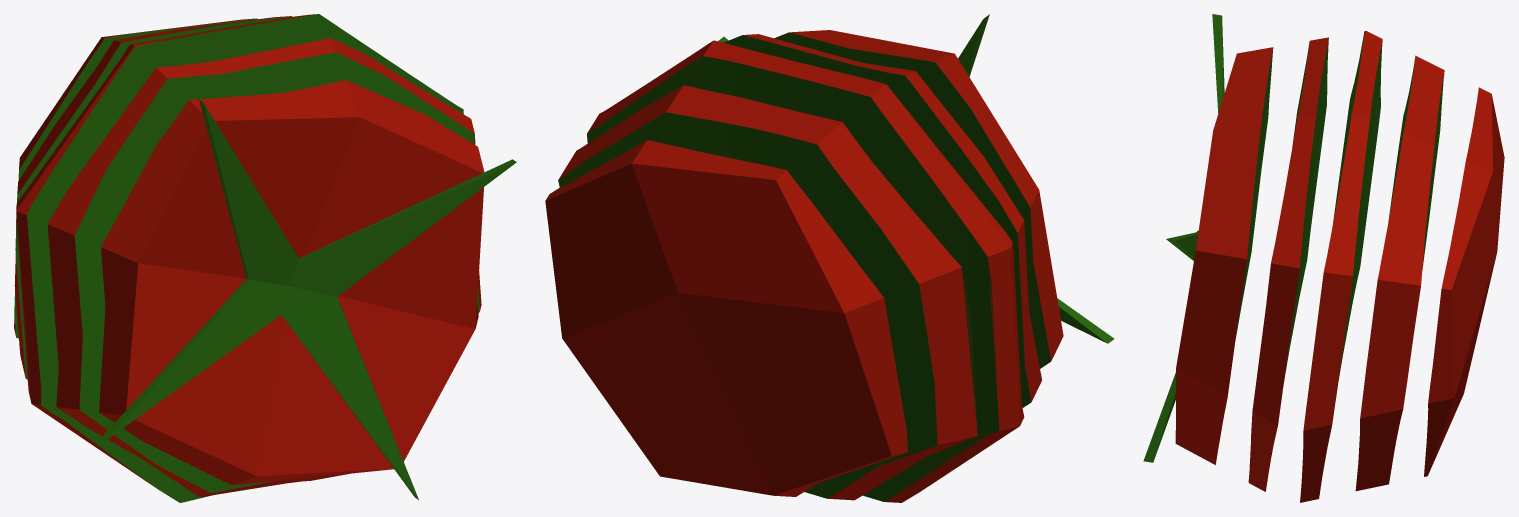
The model's file is tomatepicado.fbx.
The picture shows the model from 3 angles, left to right: view 1: azimuth 30°, elevation 25°; view 2: azimuth 150°, elevation 25°; view 3: azimuth 270°, elevation 25°; orthographic projection. The views are drawn at different scales.
Visible parts, largest first — view 1: TomatePicado; view 2: TomatePicado; view 3: TomatePicado.
Part boxes in pixels (bbox=[...]): TomatePicado: bbox=[14, 14, 516, 502]; TomatePicado: bbox=[545, 14, 1114, 502]; TomatePicado: bbox=[1143, 14, 1504, 502].
Size of the model in its own units: 160 by 159 by 130.
